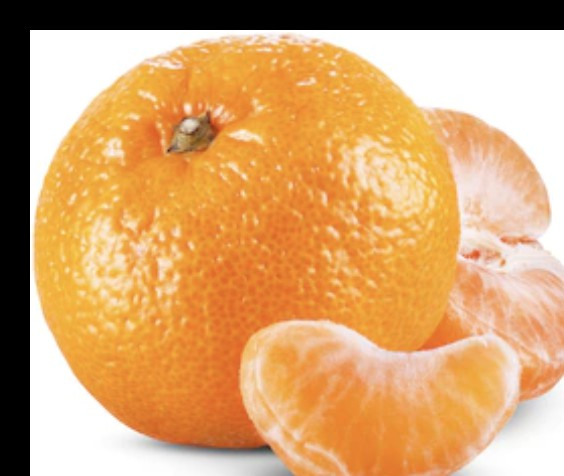fresh_orange: (36, 33, 459, 456)
